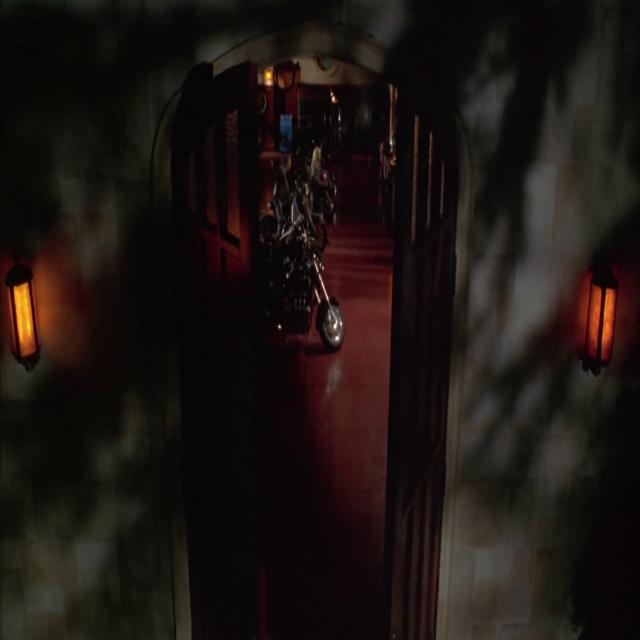Motorbike: (232, 117, 366, 396)
